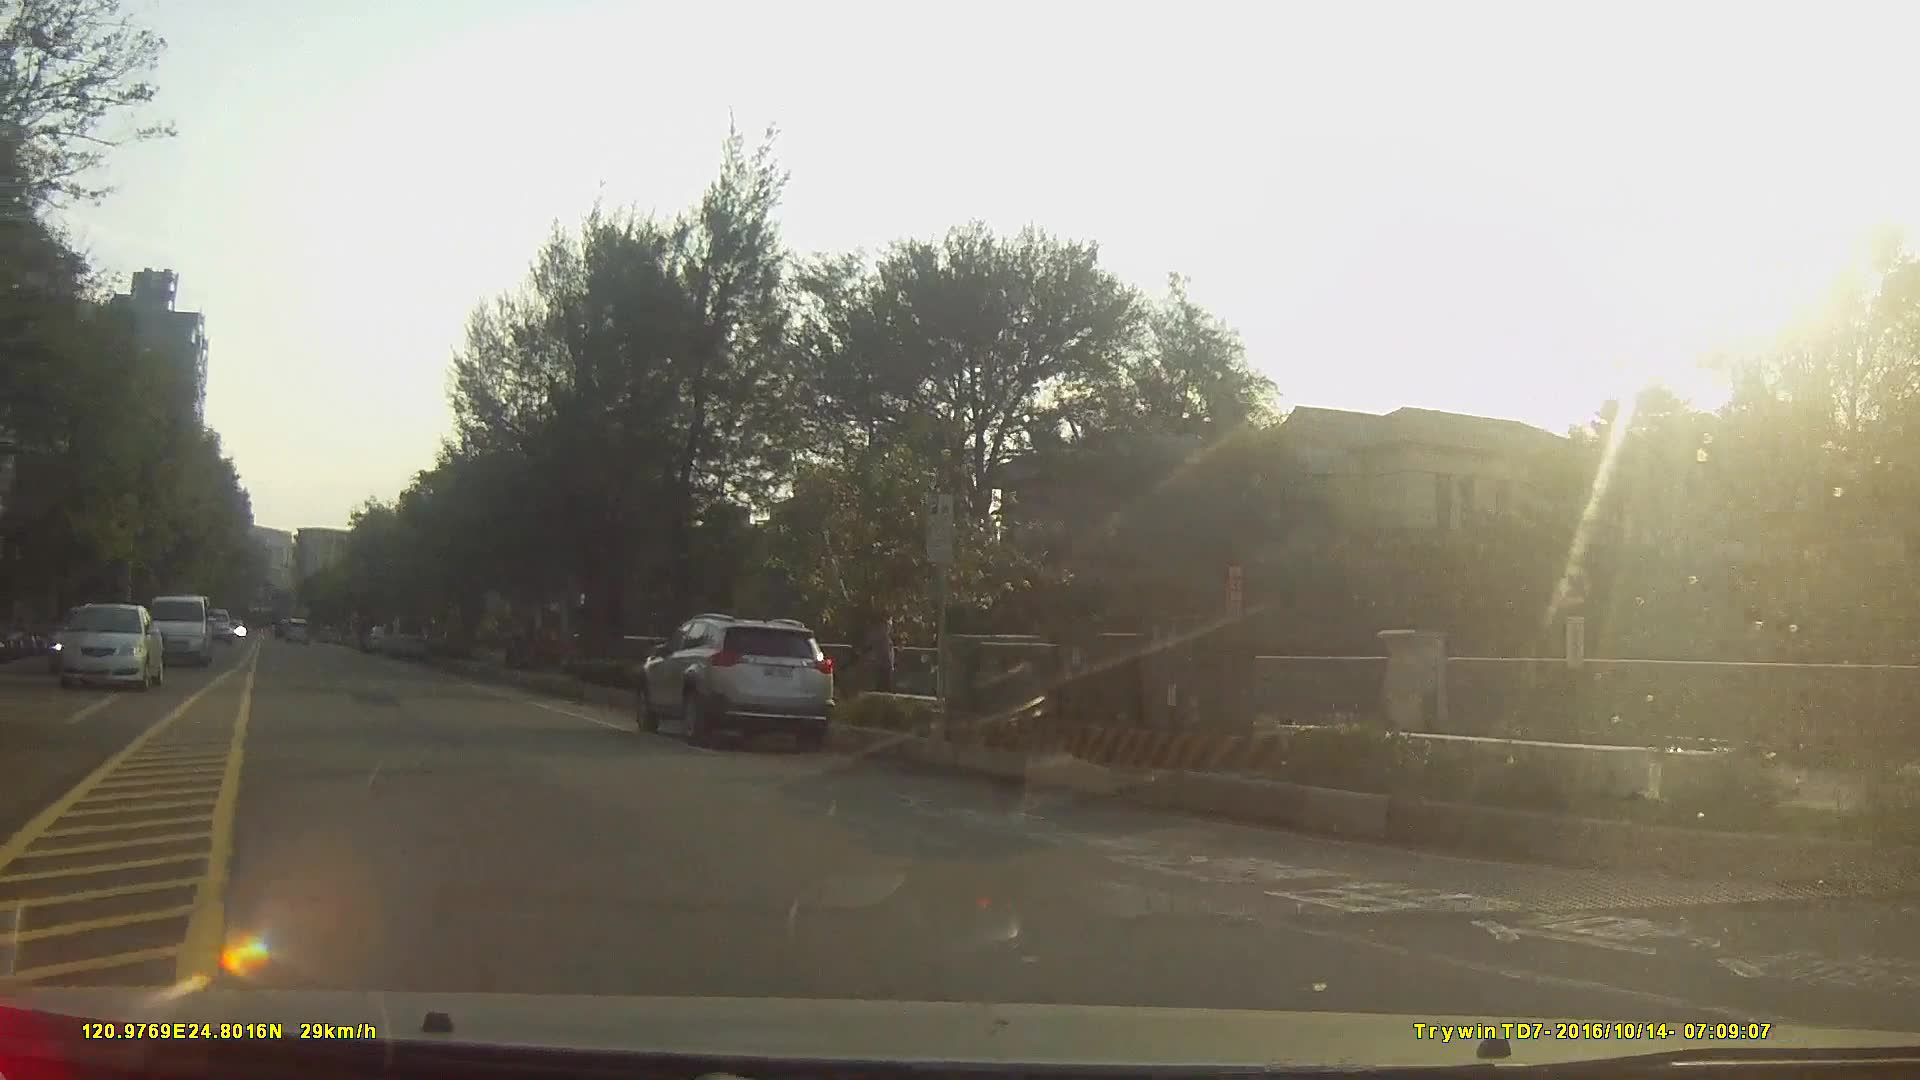vehicle: (636, 609, 837, 756), (54, 603, 164, 690), (148, 595, 212, 666), (378, 611, 429, 659), (194, 608, 233, 644)
